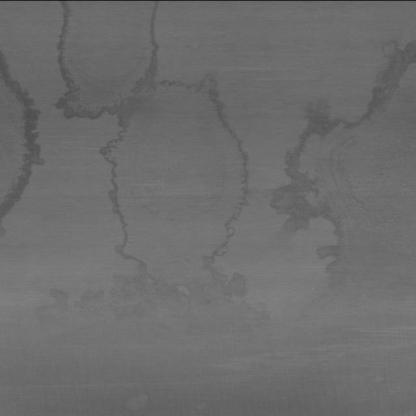water_spot: (40, 227, 267, 343), (264, 160, 340, 225), (164, 67, 236, 109), (44, 76, 90, 116), (289, 112, 338, 146), (306, 241, 361, 269), (354, 75, 389, 115), (92, 129, 136, 158), (140, 14, 176, 48), (13, 140, 46, 173)
